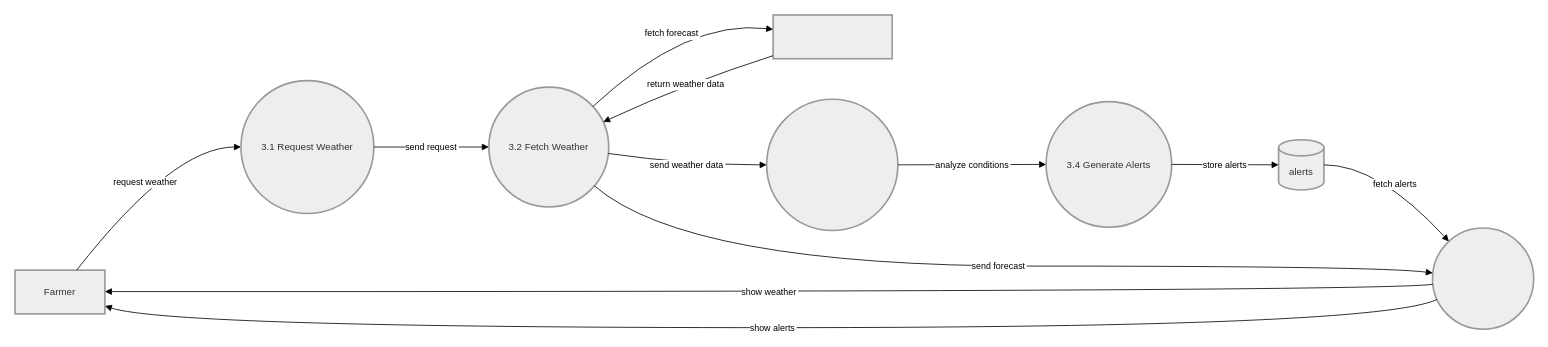
The diagram is 1548 pixels wide and 347 high, and some of its shapes have lost their labels. The shapes that lost their labels are listed below. From the top down, each one's box as (x1, y1, x2, y2) in pixels, then its label:
(772, 14, 893, 59): Weather API
(765, 98, 898, 231): 3.3 Analyze Weather
(1431, 227, 1534, 330): 3.5 Show Alerts
